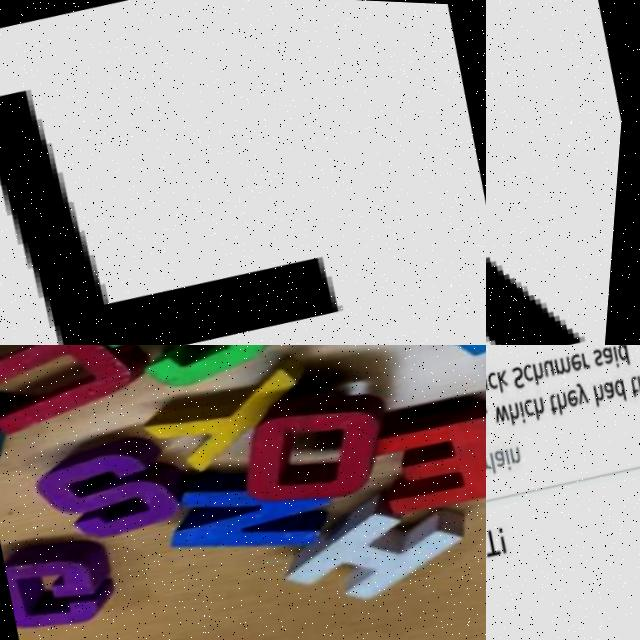A: (604, 374, 621, 396), (498, 444, 511, 464), (602, 345, 618, 360)
C: (524, 358, 539, 378), (526, 393, 539, 413), (490, 366, 503, 386)
D: (616, 371, 633, 398), (617, 345, 635, 362)
E: (568, 381, 585, 404), (572, 346, 587, 367), (486, 448, 490, 468)
F: (0, 7, 451, 345)
G: (2, 516, 148, 640)
H: (281, 464, 486, 615), (534, 355, 552, 382), (594, 377, 612, 403), (535, 391, 551, 416), (511, 397, 528, 420), (559, 387, 573, 410), (486, 525, 494, 557)
I: (521, 396, 532, 419), (508, 443, 518, 468), (614, 345, 624, 361)
K: (499, 363, 515, 388)
L: (492, 447, 503, 470)
M: (555, 349, 576, 372)
N: (514, 441, 527, 459)
O: (226, 374, 410, 521)
R: (583, 346, 596, 366), (486, 447, 498, 465)
S: (514, 360, 531, 385), (595, 345, 608, 361)
T: (486, 522, 509, 554), (550, 389, 565, 410), (631, 370, 640, 393), (486, 402, 491, 426)
U: (0, 345, 159, 455), (545, 353, 560, 374), (486, 368, 493, 389)
W: (497, 399, 514, 420)
X: (486, 0, 622, 345)
Y: (578, 374, 594, 399)
